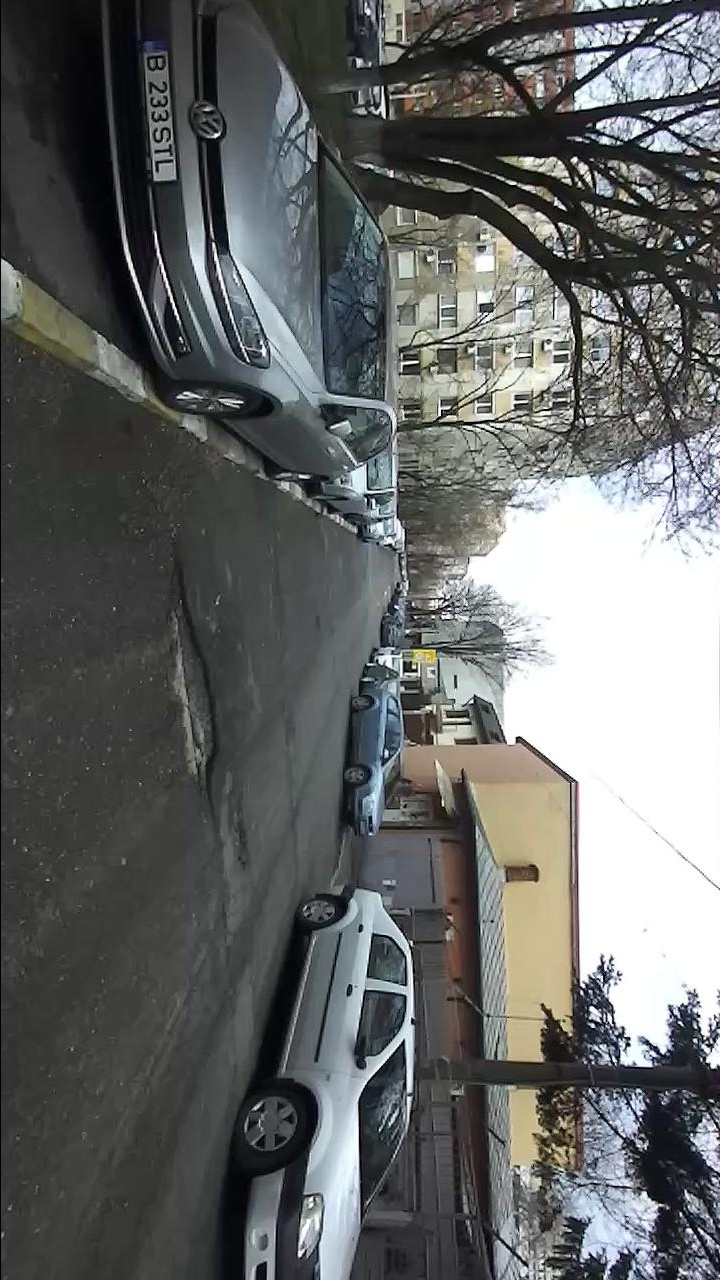pothole: (164, 560, 223, 820), (232, 792, 255, 877)
